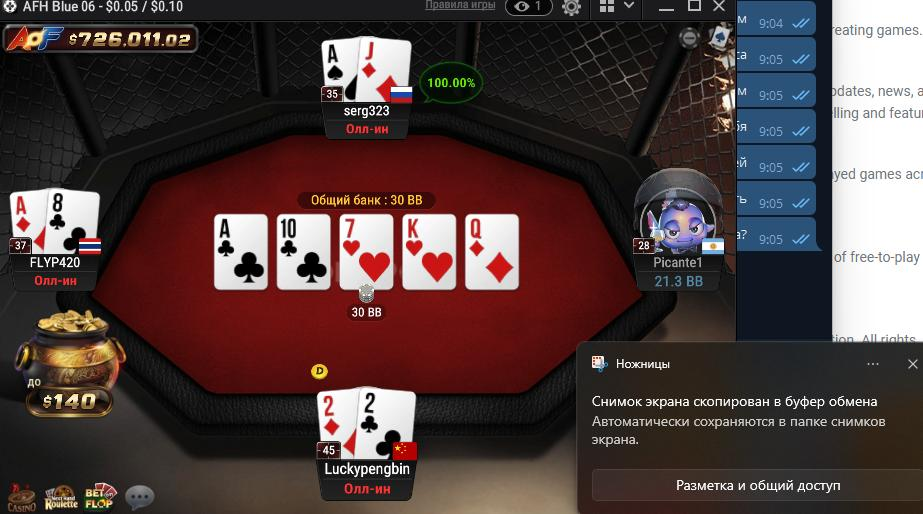10c: (276, 216, 331, 289)
2c: (357, 387, 417, 459)
2d: (316, 386, 359, 459)
7h: (340, 215, 394, 289)
8c: (46, 188, 98, 255)
Ac: (214, 213, 267, 289)
Ad: (9, 189, 47, 258)
As: (321, 41, 359, 101)
Jd: (358, 34, 413, 104)
Kh: (404, 216, 457, 290)
Qd: (466, 214, 518, 289)
